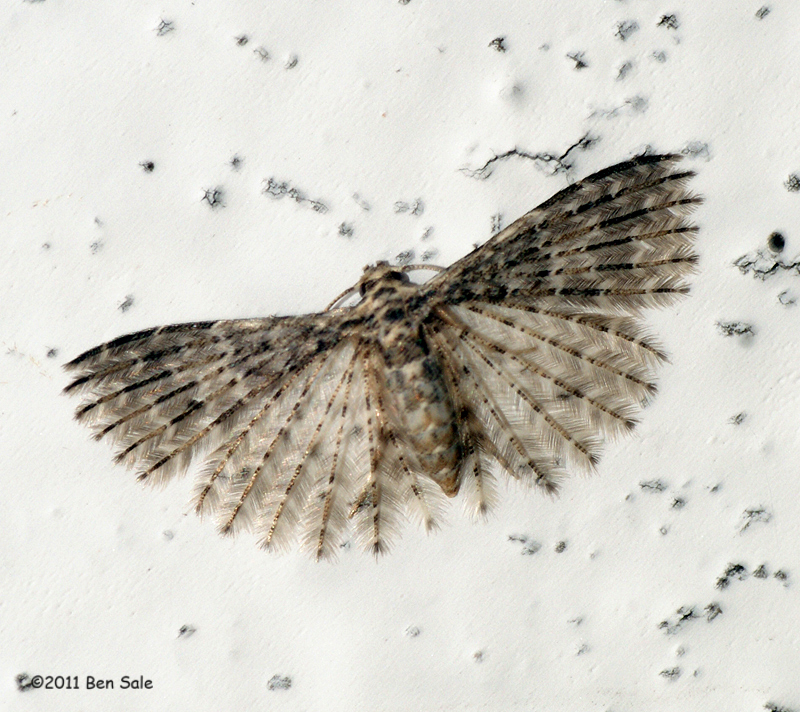Alucitidae: (57, 124, 704, 571)
moth: (55, 122, 702, 569)
